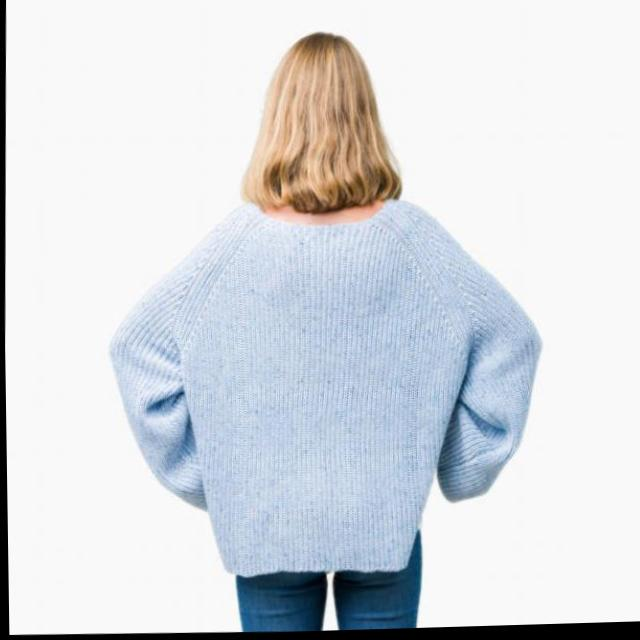no helmet: (243, 18, 415, 236)
